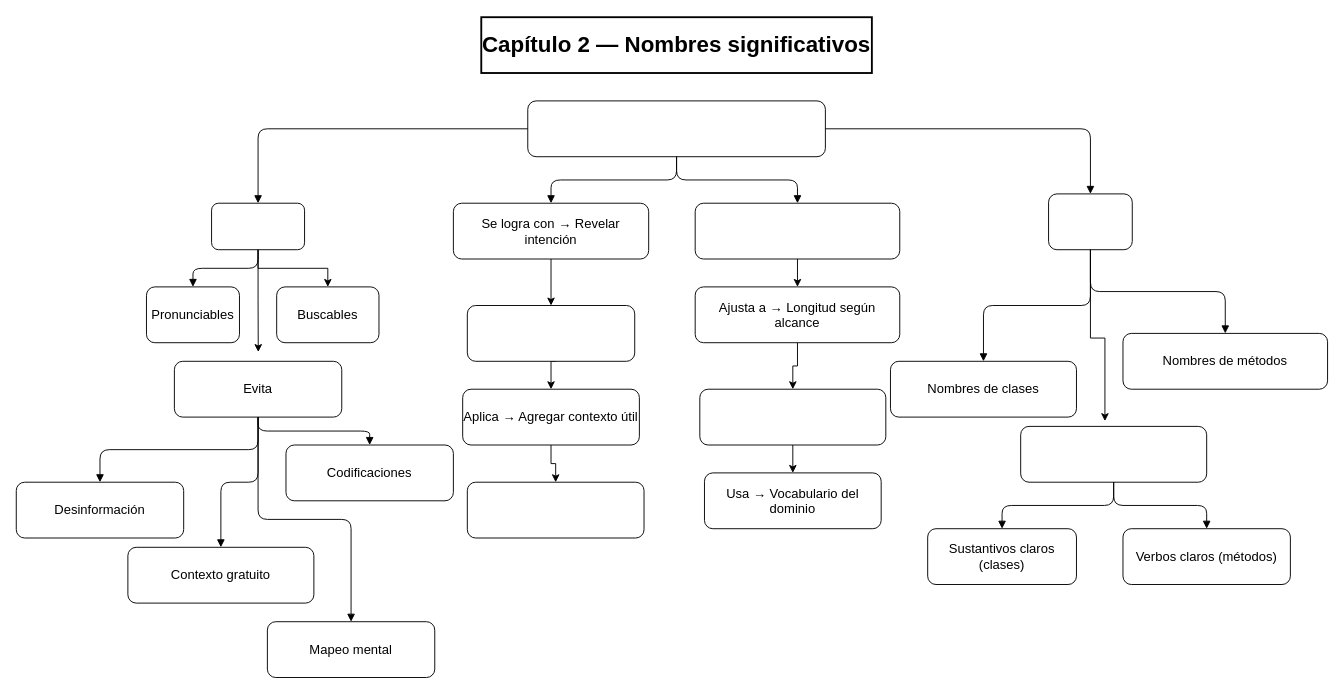
The diagram is 1344 pixels wide and 694 high, and some of its shapes have lost their labels. Here are the shapes that lost their labels. From the top down, the box of each, then its label:
(527, 100, 825, 157): Nombres significativos (Capítulo 2)
(211, 202, 305, 250): Requiere
(694, 202, 900, 259): Exige → Diferenciación con sentido
(1048, 193, 1132, 250): Guía
(466, 305, 635, 361): Promueve → Consistencia léxica
(699, 388, 886, 445): Implica → Una palabra por concepto
(1020, 425, 1207, 482): Deben ser
(466, 481, 644, 538): Recomienda → No ser ingenioso
